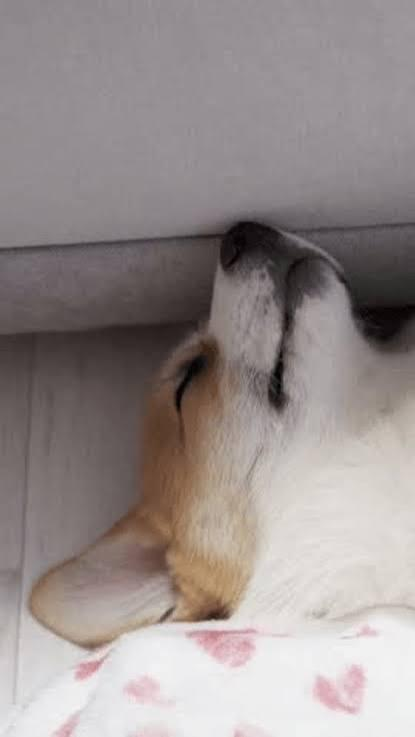adult_dog: (21, 218, 415, 651)
